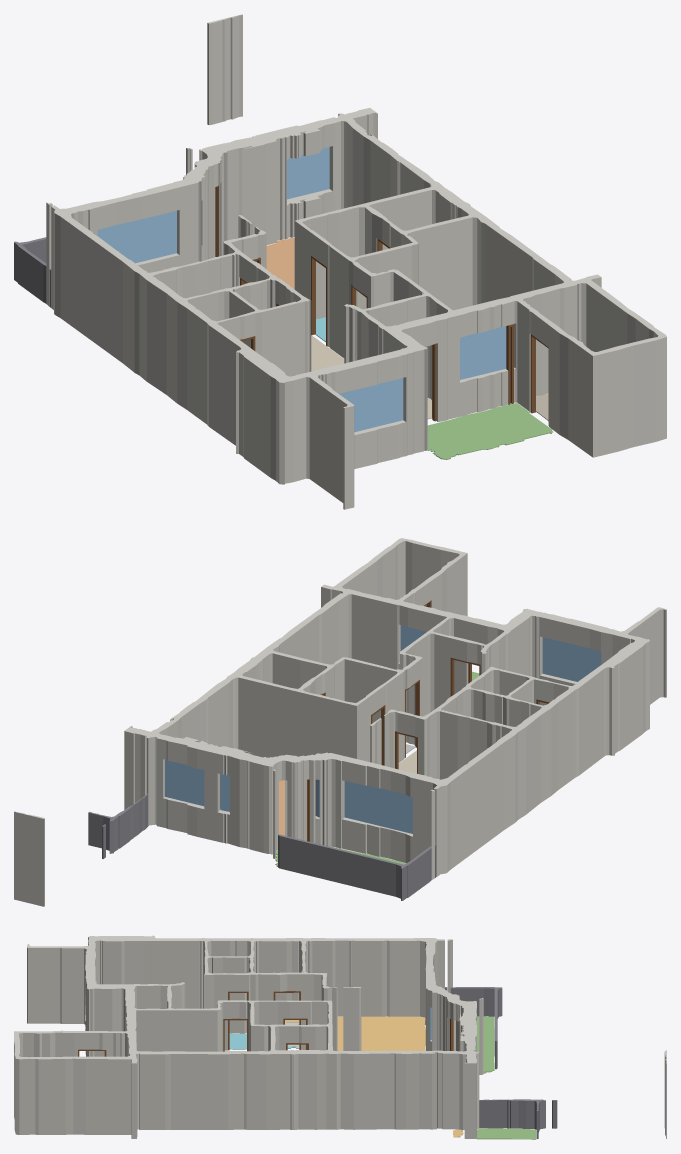
The picture shows the model from 3 angles, top to bottom: view 1: azimuth 30°, elevation 25°; view 2: azimuth 150°, elevation 25°; view 3: azimuth 270°, elevation 25°; orthographic projection. The views are drawn at different scales.
Parts seen in each view (by area): view 1: walls, floor_0_Outdoor, window_23, window_25, window_24, railings, window_15, floor_7_Living_Room; view 2: walls, railings, window_23, window_25, window_15; view 3: walls, railings, floor_5_Kitchen, floor_1_Outdoor, floor_2_Outdoor.
Boxes of the visible parts, box(x1,y1,x2,y2) form: walls: box(46, 14, 666, 509); floor_0_Outdoor: box(427, 403, 552, 459); window_23: box(97, 210, 176, 263); window_25: box(339, 378, 403, 432); window_24: box(460, 326, 506, 379); railings: box(14, 237, 51, 307); window_15: box(287, 147, 329, 199); floor_7_Living_Room: box(266, 237, 294, 289); walls: box(14, 538, 666, 906); railings: box(88, 793, 436, 900); window_23: box(344, 781, 412, 833); window_25: box(542, 637, 601, 681); window_15: box(165, 759, 204, 806); walls: box(14, 935, 666, 1138); railings: box(445, 987, 557, 1138); floor_5_Kitchen: box(337, 1016, 425, 1051); floor_1_Outdoor: box(477, 1016, 494, 1074); floor_2_Outdoor: box(476, 1128, 536, 1139).
Size of the model in its own units: 9.76 by 2.72 by 21.08.
